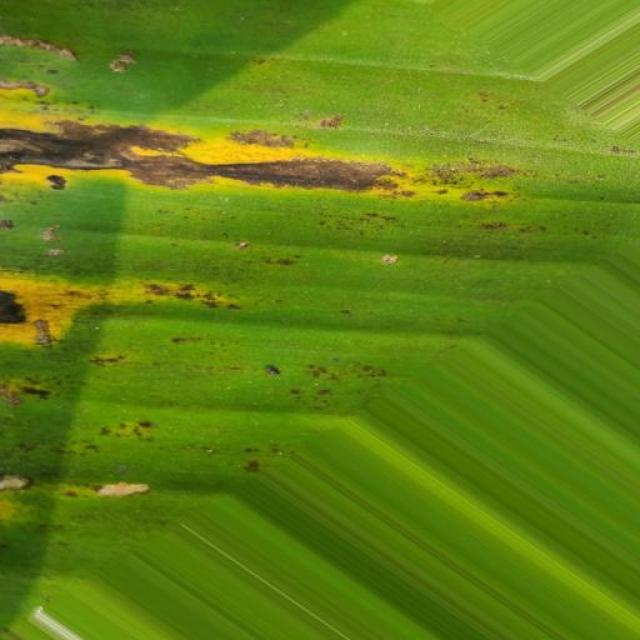Early_rust: (0, 33, 579, 609)
